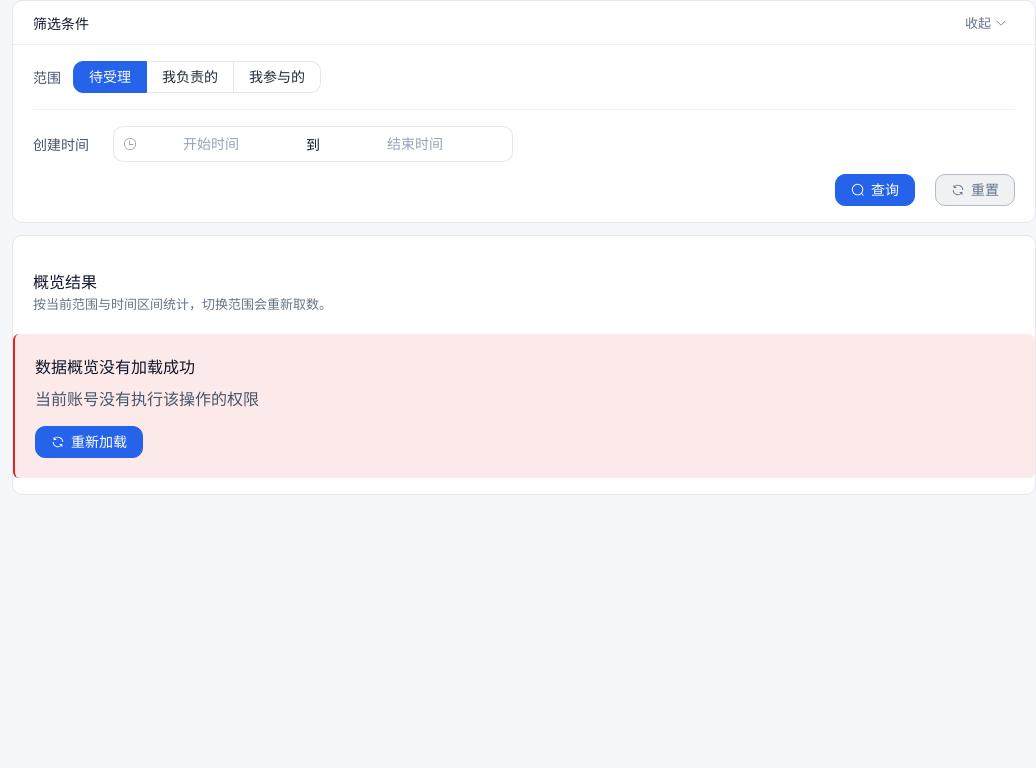
Scenario: TicketDashboardView › 请求失败时保留筛选卡并给出可重试的错误态
Check: the element with class "admin-filter-card" is shown, box [12,0,1035,223]
Check: the message "数据概览没有加载成功 当前账号没有执行该操作的权限 重新加载" is shown, box [13,334,1035,478]
Click the button "重新加载" at (89, 442), box [35,426,143,458]
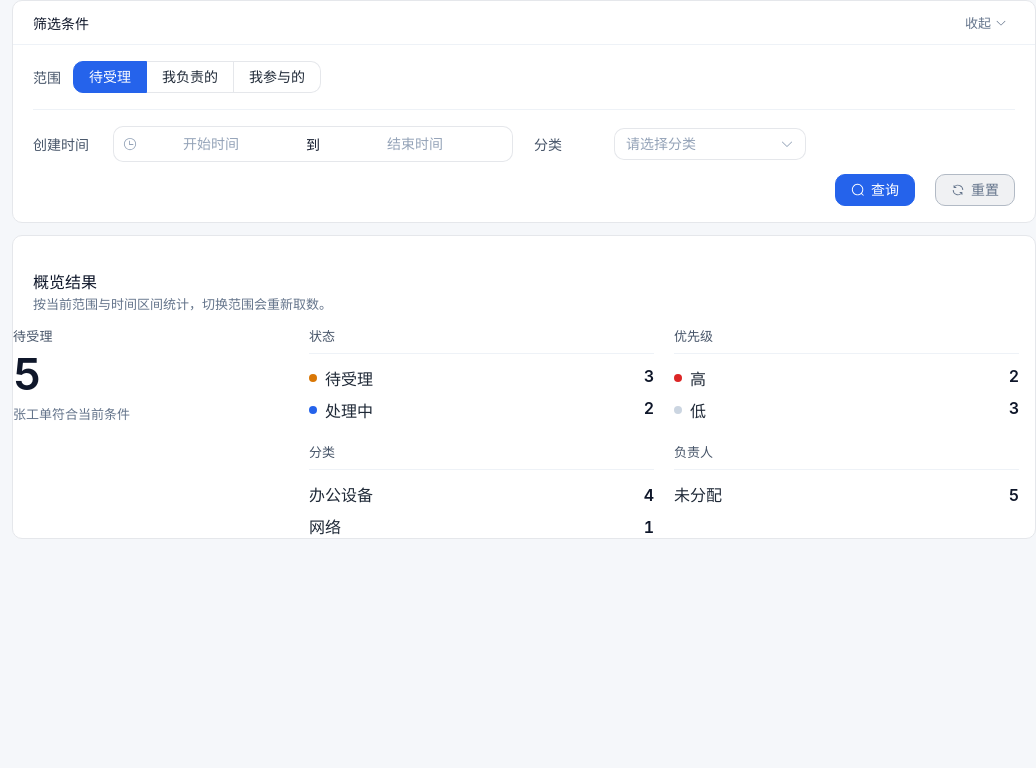
Check: the text with class "dashboard-total__value" reads "5", box [13,347,41,401]
